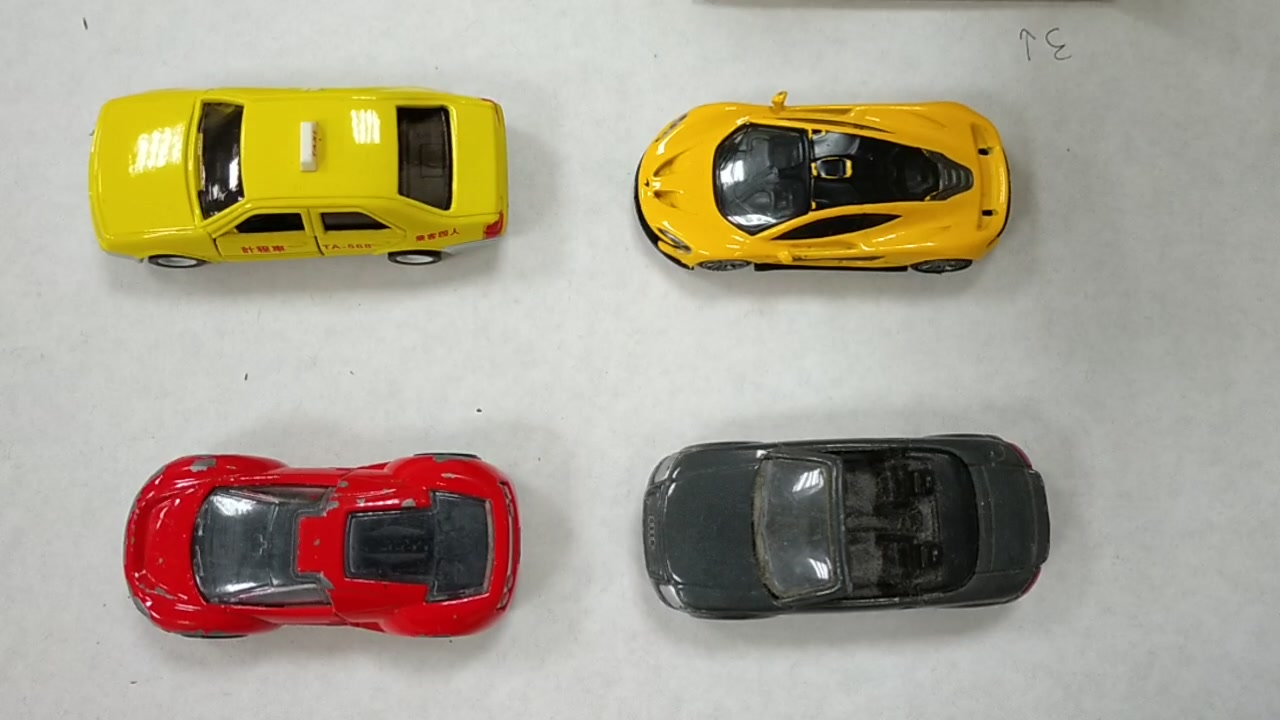car: (628, 429, 1057, 624), (116, 455, 524, 652), (78, 87, 511, 269), (621, 104, 1015, 278)
